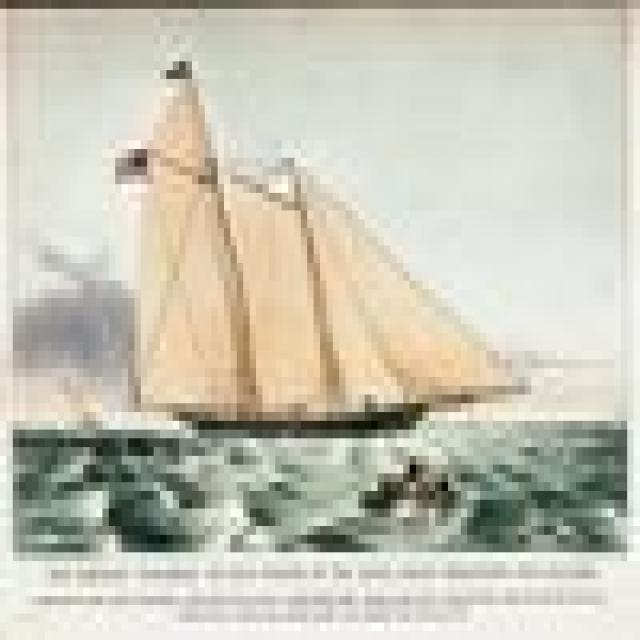Ship: (106, 77, 529, 445)
